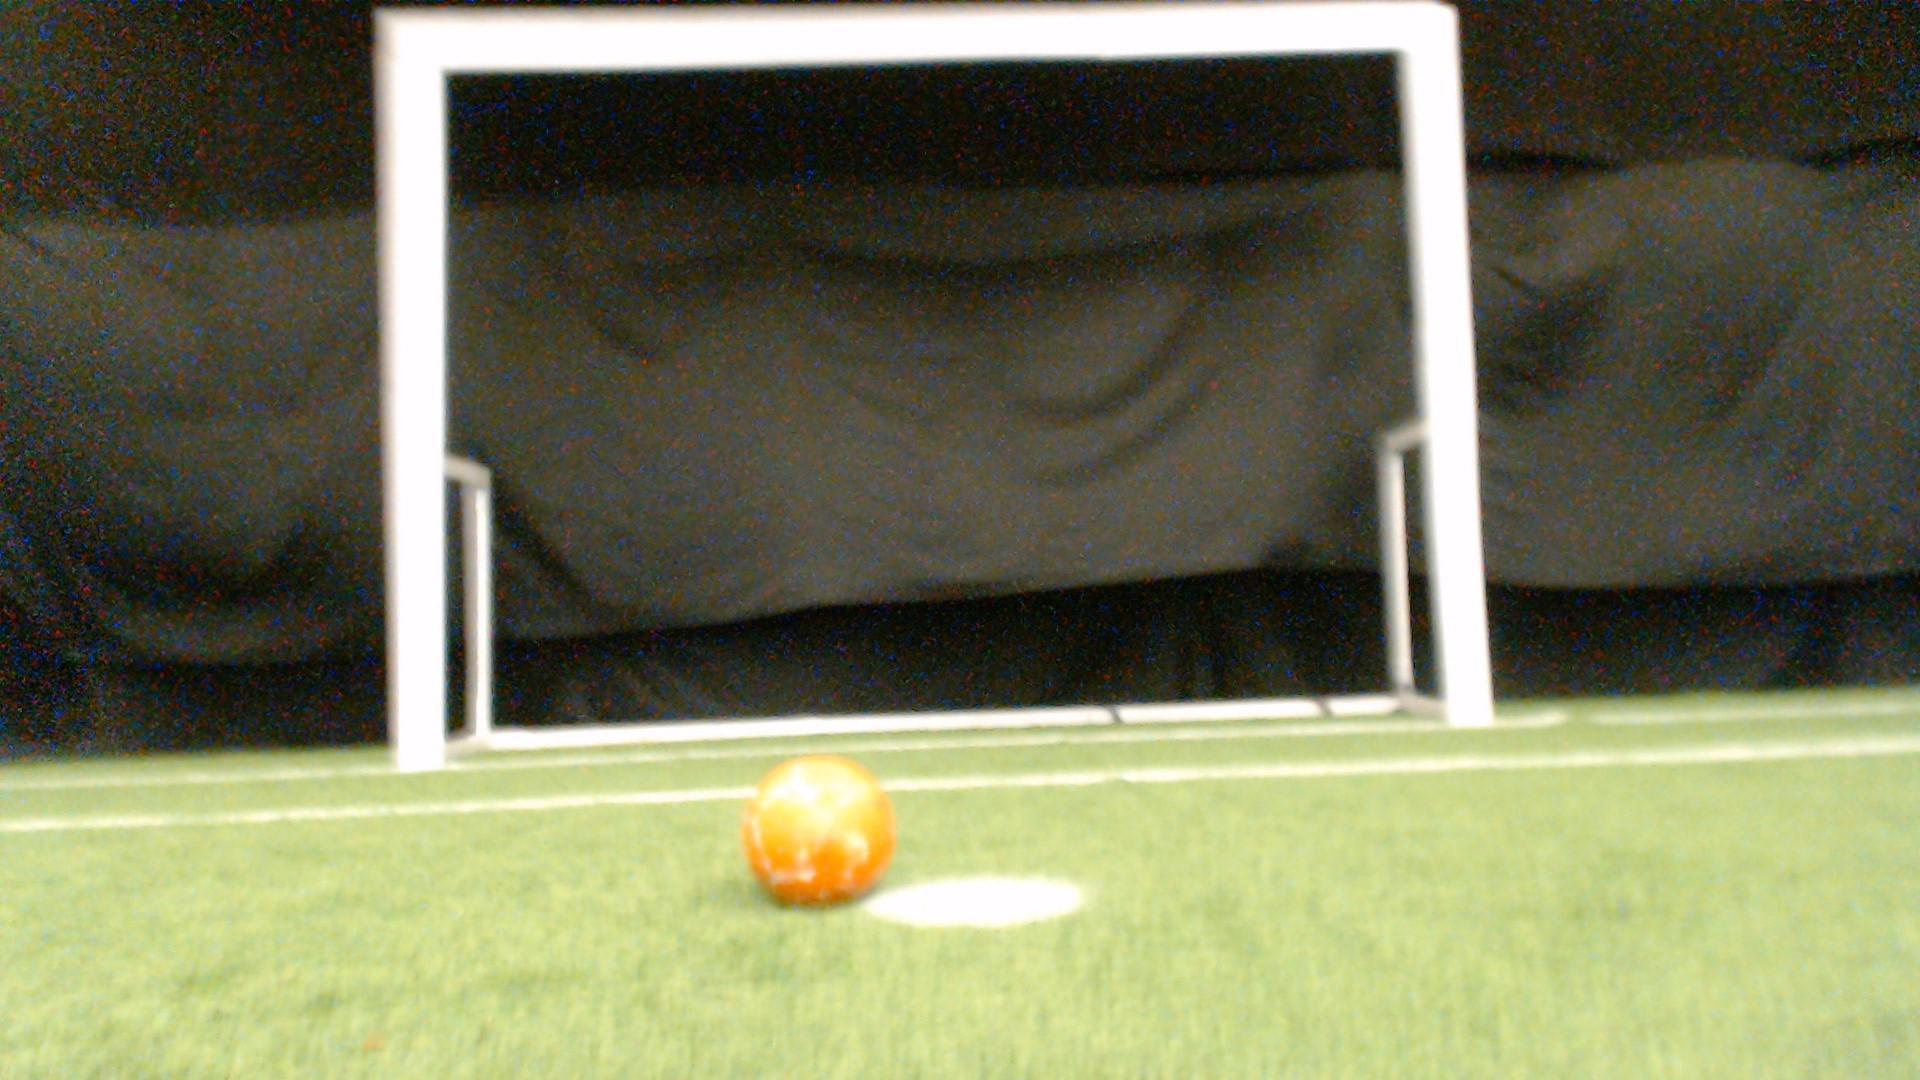bola: (724, 749, 923, 926)
